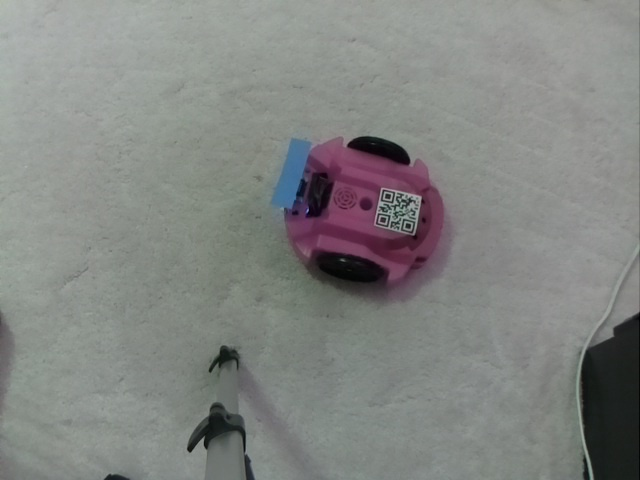chassis: (267, 130, 451, 290)
qr: (376, 184, 426, 241)
